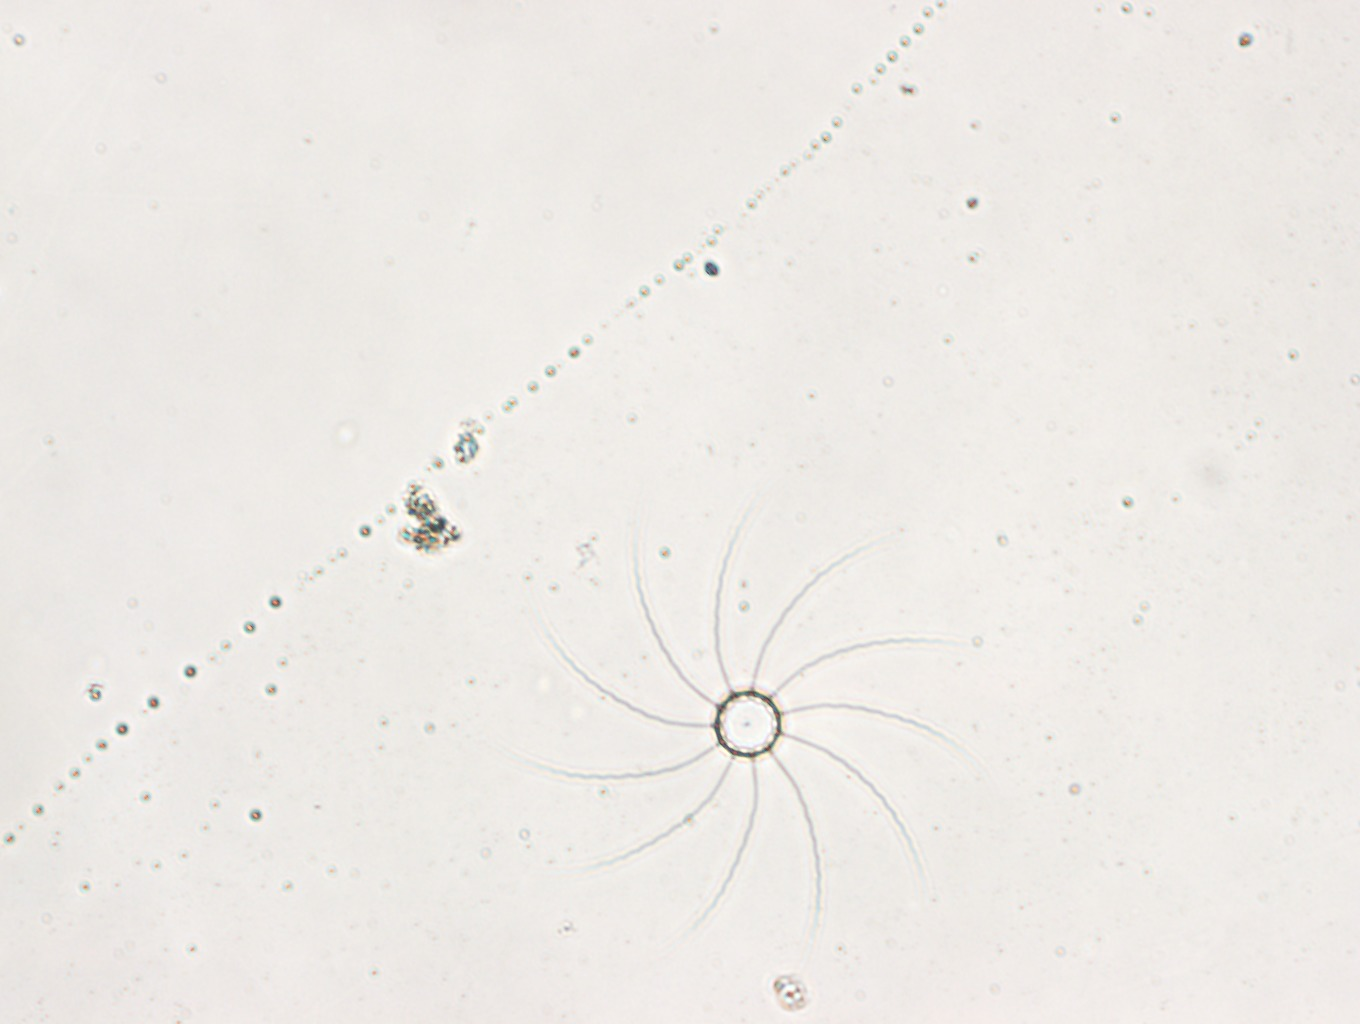bacteriastrum: (521, 511, 972, 953)
